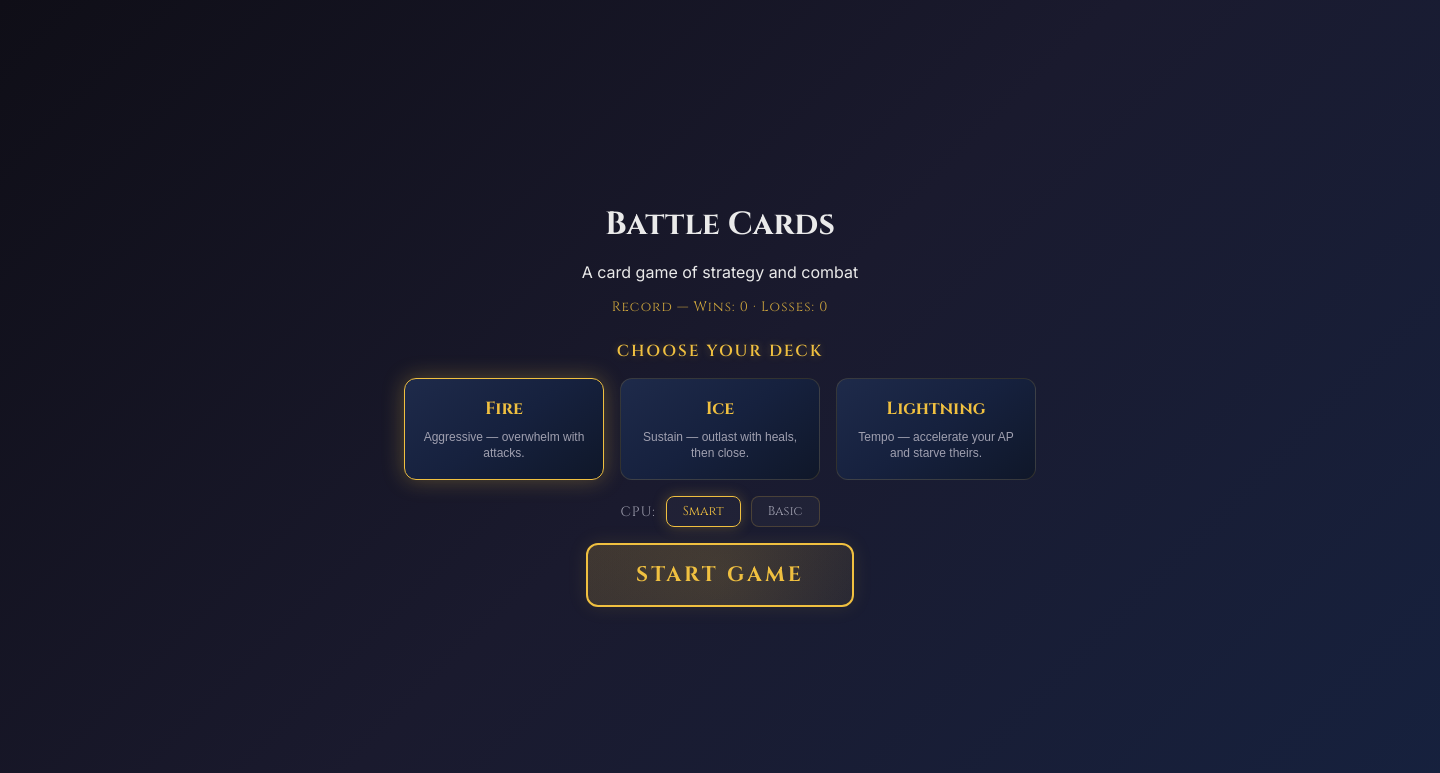
Test: App integration — full game flow (render path) › starts a game: deals a hand, shows round 1 and starting AP
Click the button "Start Game" at (720, 575), box [586, 543, 854, 607]
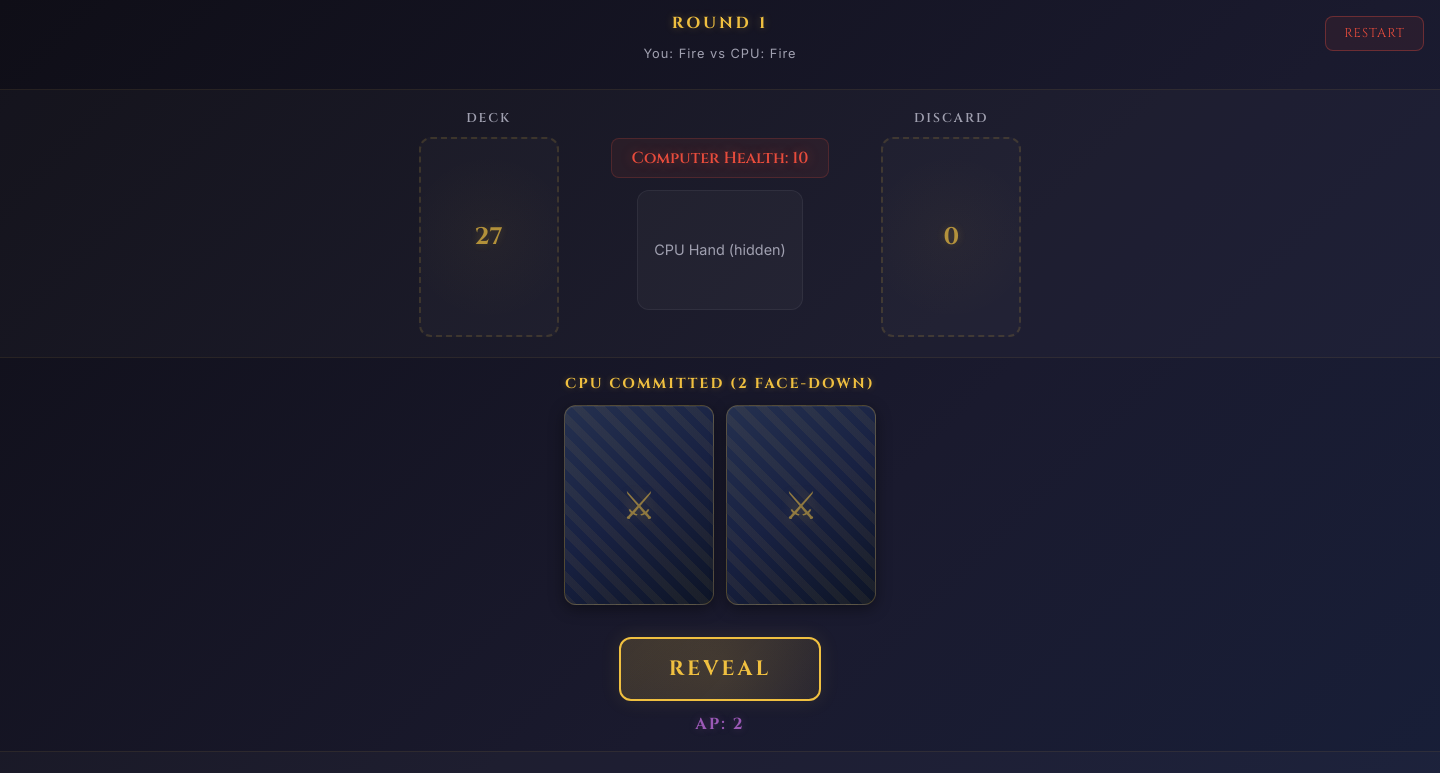
Expected: the text "Round 1" is shown, [672, 12, 768, 34]
